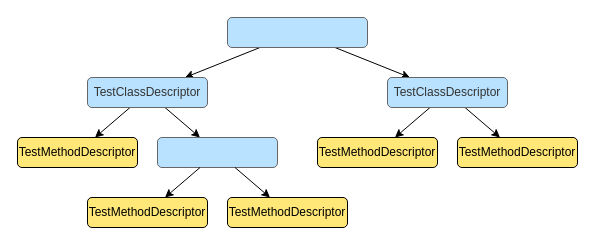
Some shapes in this 595 by 245 pixel diagram are drawn without their labels. The centre of each missing label's shape, as x and y in pixels:
EngineDescriptor: (x=297, y=32)
ParamTestDescriptor: (x=217, y=152)
